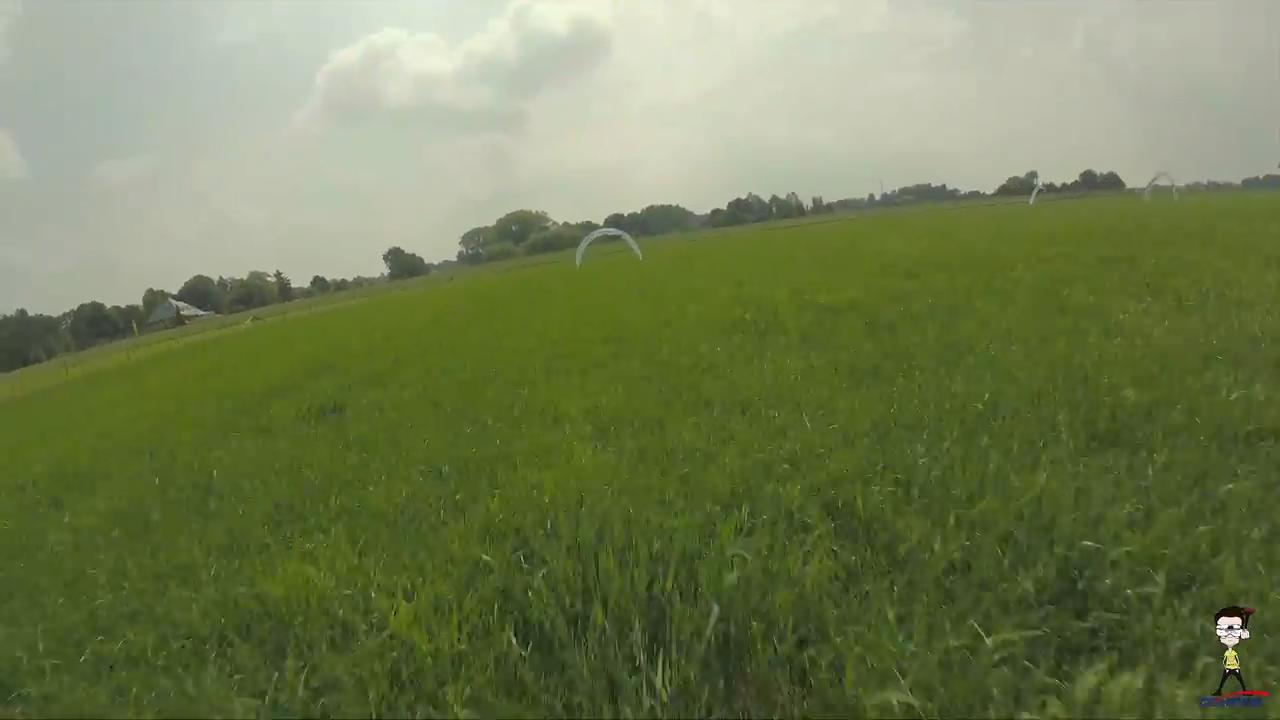gate: (572, 226, 645, 267)
